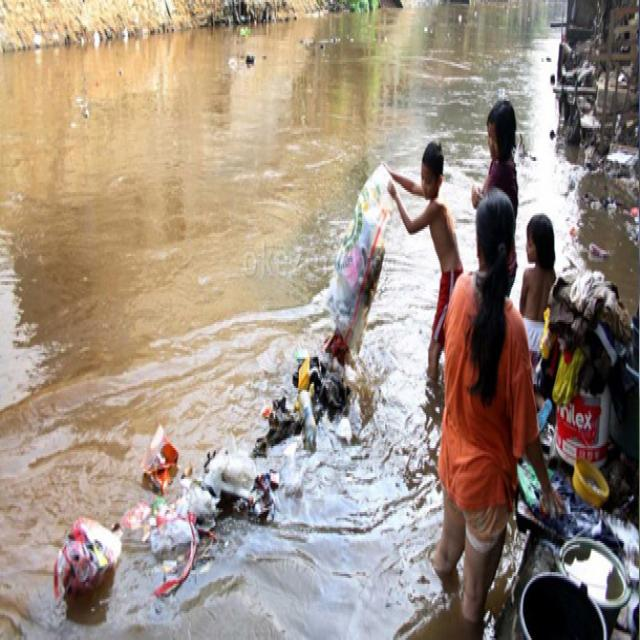sampah-detection: (124, 420, 220, 606), (330, 158, 396, 371), (540, 268, 640, 405), (291, 346, 380, 447), (204, 436, 282, 531), (50, 510, 123, 603), (260, 381, 320, 458)
